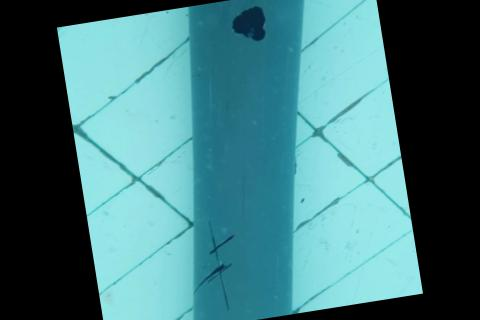kebocoran: (227, 2, 271, 46)
keretakan: (185, 217, 246, 313)
